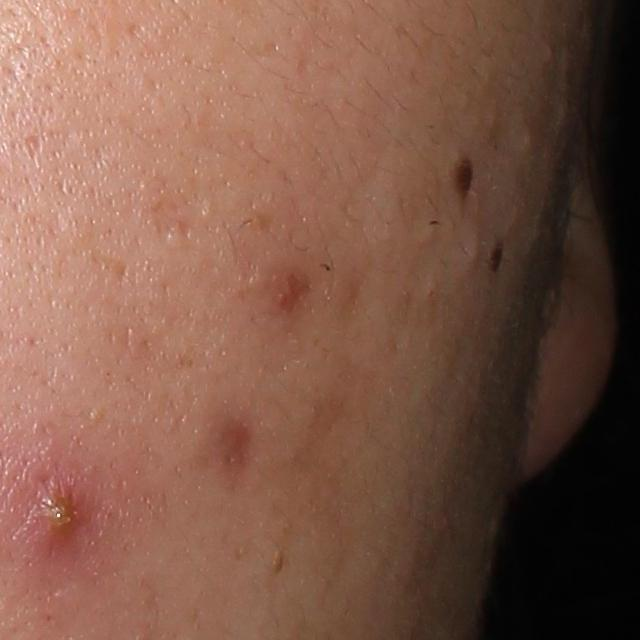atrophic_scar: (144, 198, 203, 243), (8, 131, 46, 169)
nevus: (448, 153, 477, 208), (487, 240, 506, 273)
